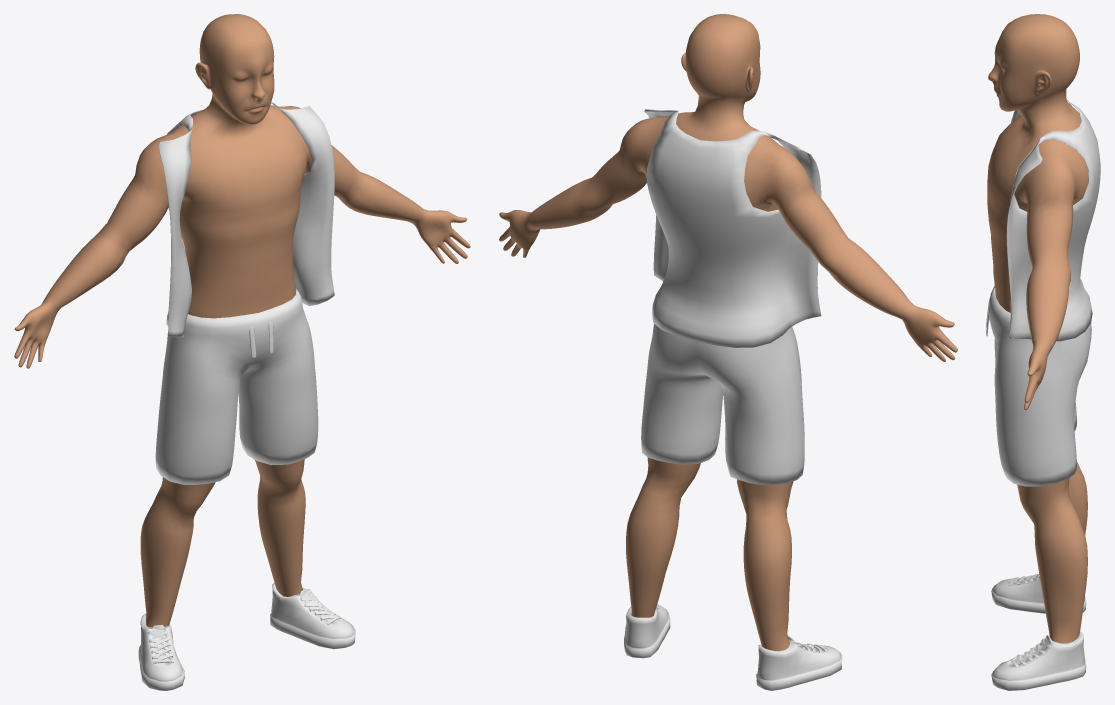
Rendered from Victim ripped shirt Unity.fbx.
The picture shows the model from 3 angles, left to right: view 1: azimuth 30°, elevation 25°; view 2: azimuth 150°, elevation 25°; view 3: azimuth 270°, elevation 25°; orthographic projection. The views are drawn at different scales.
Visible parts, largest first — view 1: Retopology Final.001, Short.001, Tshirt ripped.001, Shoe low poly.005; view 2: Retopology Final.001, Tshirt ripped.001, Short.001, Shoe low poly.005; view 3: Retopology Final.001, Short.001, Tshirt ripped.001, Shoe low poly.005.
Boxes of the visible parts, left/top/right/bottom form: Retopology Final.001: left=14, top=14, right=470, bottom=627; Short.001: left=155, top=289, right=318, bottom=484; Tshirt ripped.001: left=158, top=102, right=334, bottom=337; Shoe low poly.005: left=138, top=583, right=355, bottom=690; Retopology Final.001: left=499, top=14, right=957, bottom=651; Tshirt ripped.001: left=644, top=109, right=821, bottom=347; Short.001: left=641, top=324, right=804, bottom=484; Shoe low poly.005: left=624, top=604, right=842, bottom=690; Retopology Final.001: left=987, top=14, right=1088, bottom=643; Short.001: left=988, top=285, right=1091, bottom=486; Tshirt ripped.001: left=1006, top=101, right=1100, bottom=341; Shoe low poly.005: left=991, top=574, right=1086, bottom=690.
Size of the model in its own units: 1110 by 1478 by 245.
